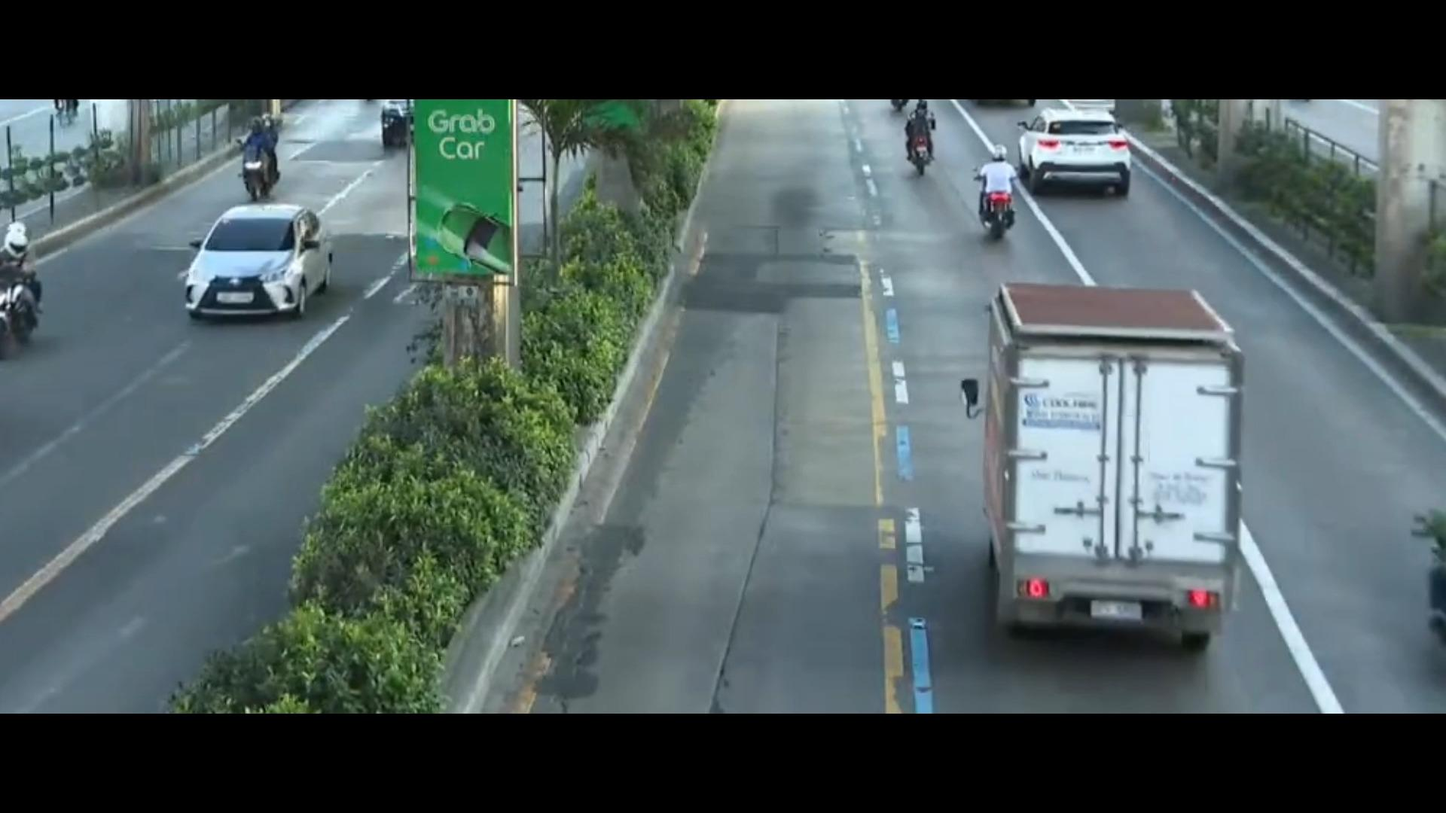Motorcycle: (0, 222, 64, 345), (216, 110, 290, 205), (956, 145, 1021, 238), (891, 108, 949, 175)
SUV: (1006, 106, 1141, 203)
Sedan: (176, 187, 358, 336)
Truck: (908, 232, 1307, 676)
